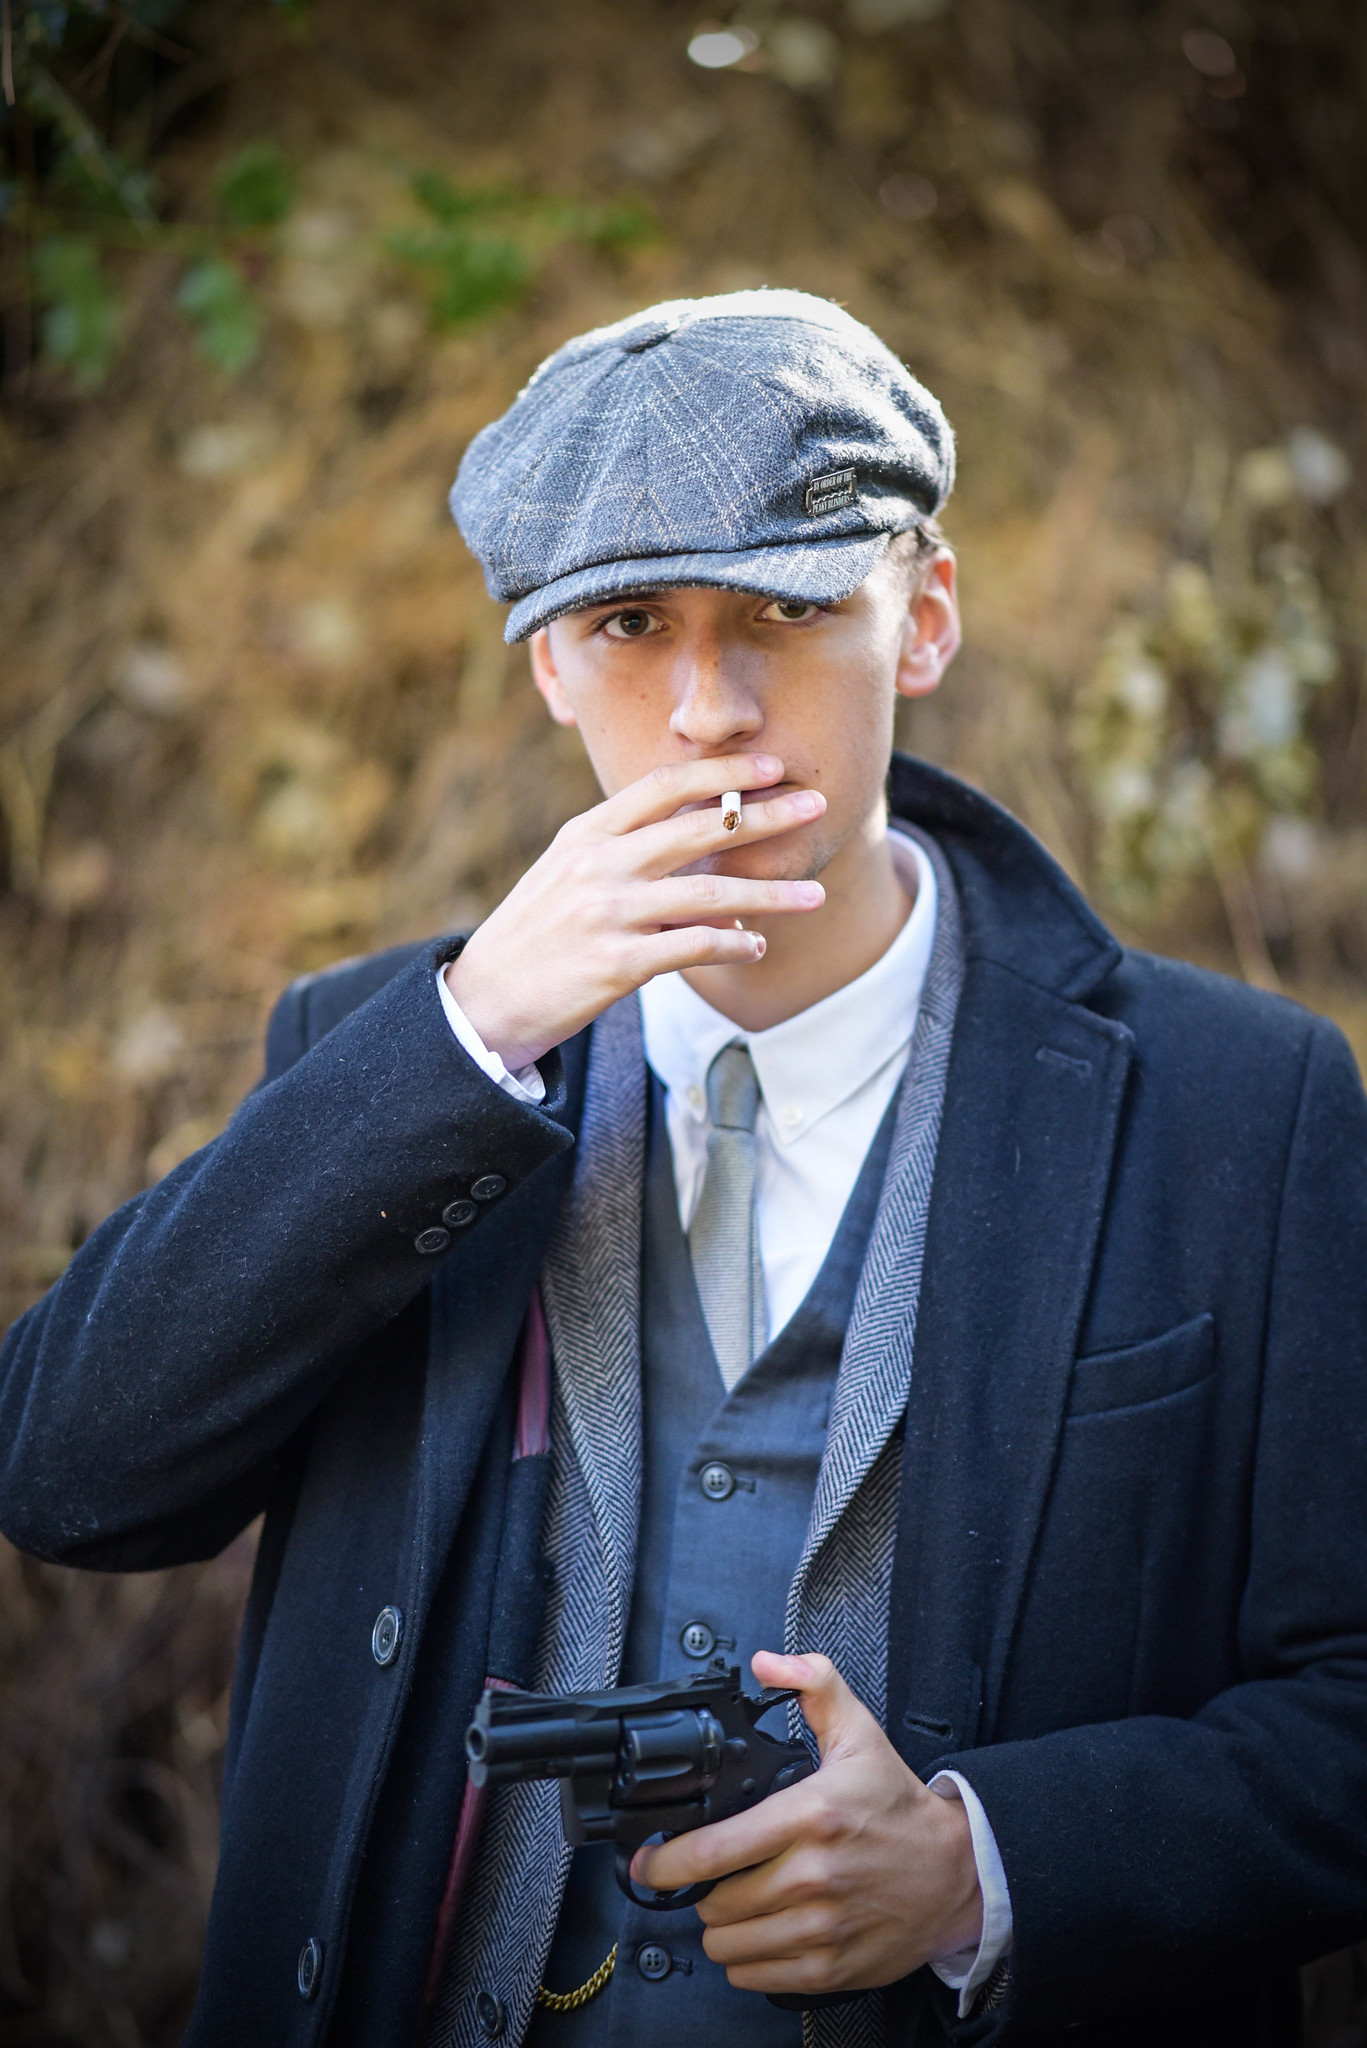gun: (444, 1645, 833, 1917)
person: (9, 270, 1367, 2047)
